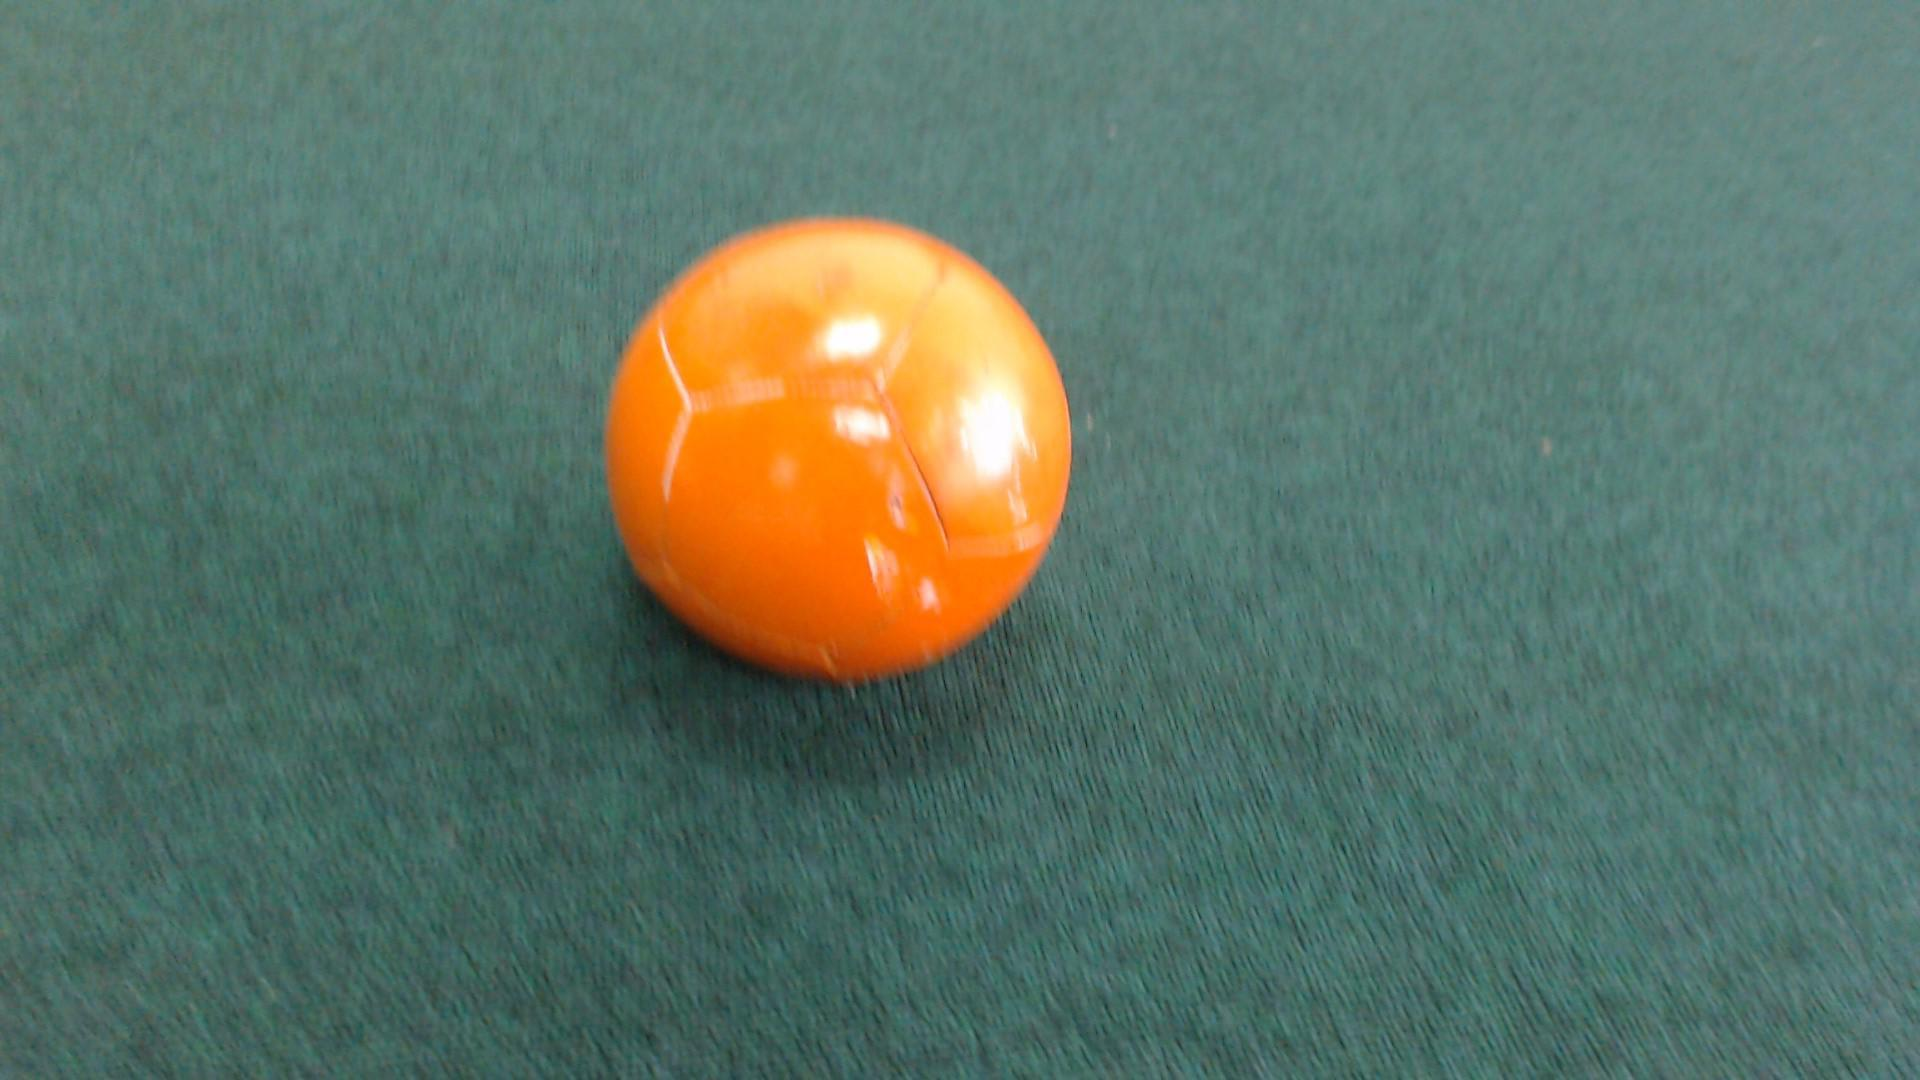bola: (578, 195, 1087, 717)
